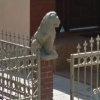Statue: (19, 5, 67, 65)
